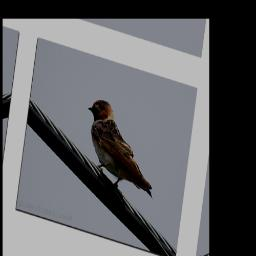Swallow: (78, 93, 165, 204)
